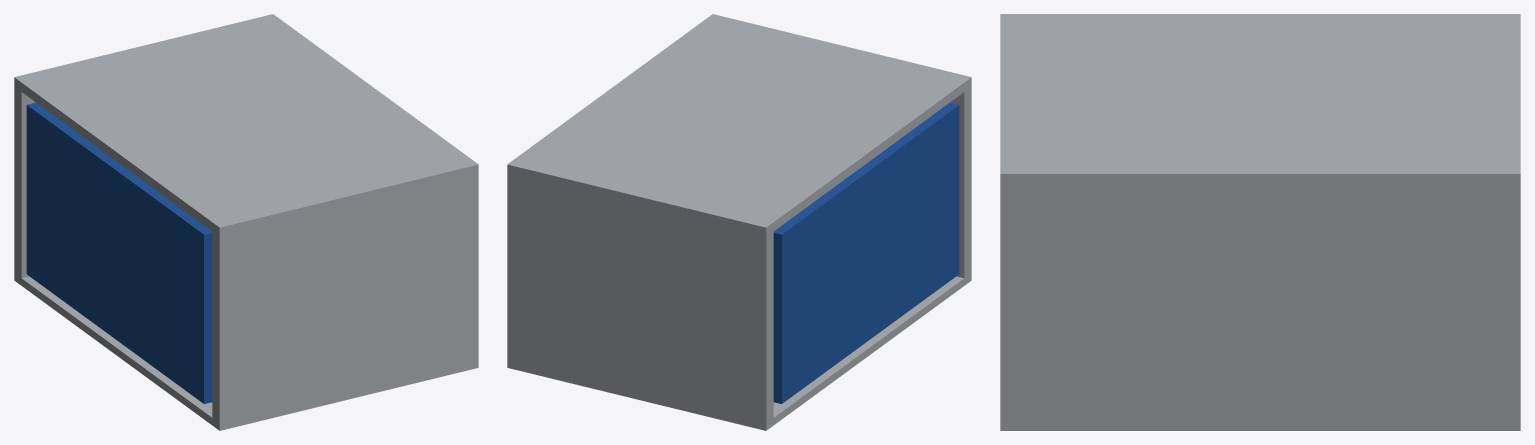
Rendered from L129_REAR_VGA.fbx.
3 renders of one model, left to right at view 1: azimuth 30°, elevation 25°; view 2: azimuth 150°, elevation 25°; view 3: azimuth 270°, elevation 25°, orthographic. The views are drawn at different scales.
Visible parts, largest first — view 1: REAR_VGA__Steel, REAR_VGA__Blue; view 2: REAR_VGA__Steel, REAR_VGA__Blue; view 3: REAR_VGA__Steel.
Boxes of the visible parts, <box> form: REAR_VGA__Steel: <box>14,14,478,430</box>; REAR_VGA__Blue: <box>26,102,212,403</box>; REAR_VGA__Steel: <box>507,14,971,430</box>; REAR_VGA__Blue: <box>773,102,959,403</box>; REAR_VGA__Steel: <box>1000,14,1520,430</box>.
Size of the model in its own units: 16.1 by 12 by 22.
